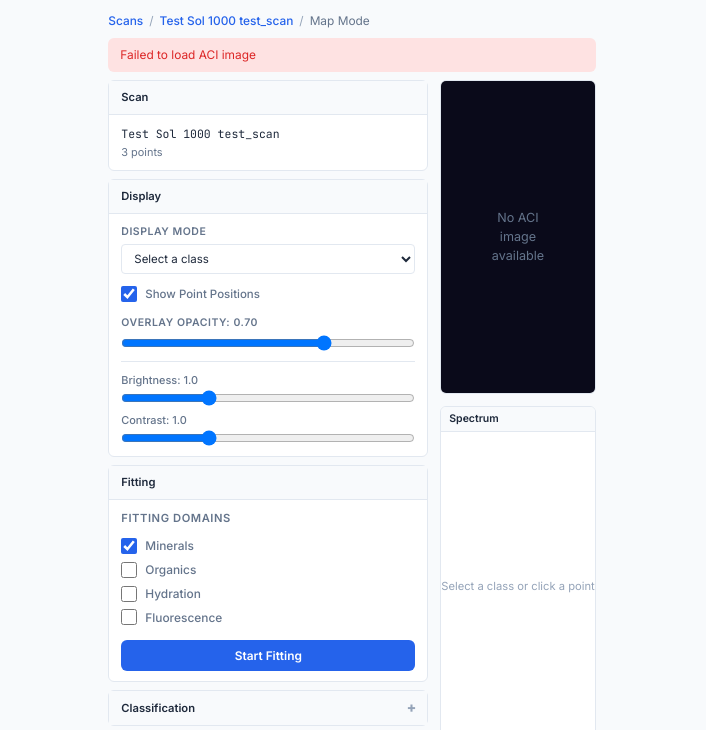
Test: MapMode — recovering results on terminal fit statuses (issue #6) › recovers retained results when the job fails
Expected: the text "3 points" is shown, x1=121 y1=145 x2=163 y2=159
Click the button "Start Fitting" at (268, 656), box x1=121 y1=640 x2=415 y2=671
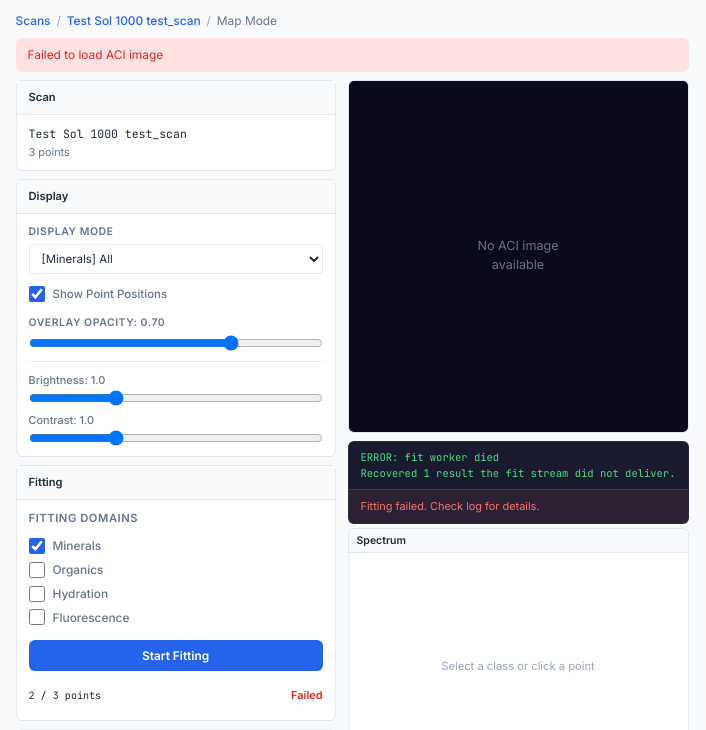
Expected: the text "ERROR: fit worker died" is shown, x1=360 y1=450 x2=499 y2=464
Expected: the text "Recovered 1 result the fit stream did not deliver." is shown, x1=360 y1=466 x2=676 y2=481
